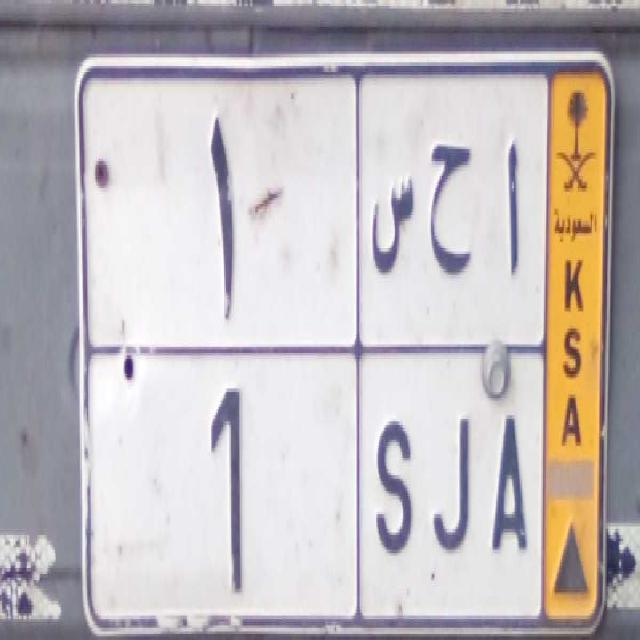license_plate: (83, 336, 545, 625)
